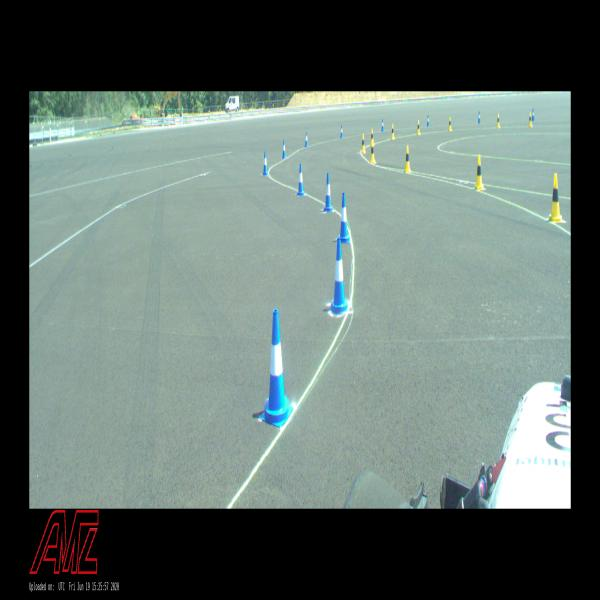blue_cone: (260, 310, 293, 428), (330, 239, 348, 314), (338, 192, 350, 242), (323, 174, 333, 212), (296, 163, 305, 196), (262, 150, 268, 176), (282, 140, 286, 159), (305, 132, 308, 147), (381, 118, 384, 132), (340, 125, 343, 138), (427, 114, 430, 127), (532, 109, 535, 122), (478, 111, 480, 124)
yellow_cone: (548, 174, 562, 222), (474, 155, 486, 191), (404, 145, 412, 173), (370, 141, 376, 164), (361, 134, 366, 154), (370, 129, 375, 146), (391, 123, 395, 140), (528, 112, 532, 128), (417, 120, 421, 135), (496, 113, 500, 128), (448, 116, 452, 131)
